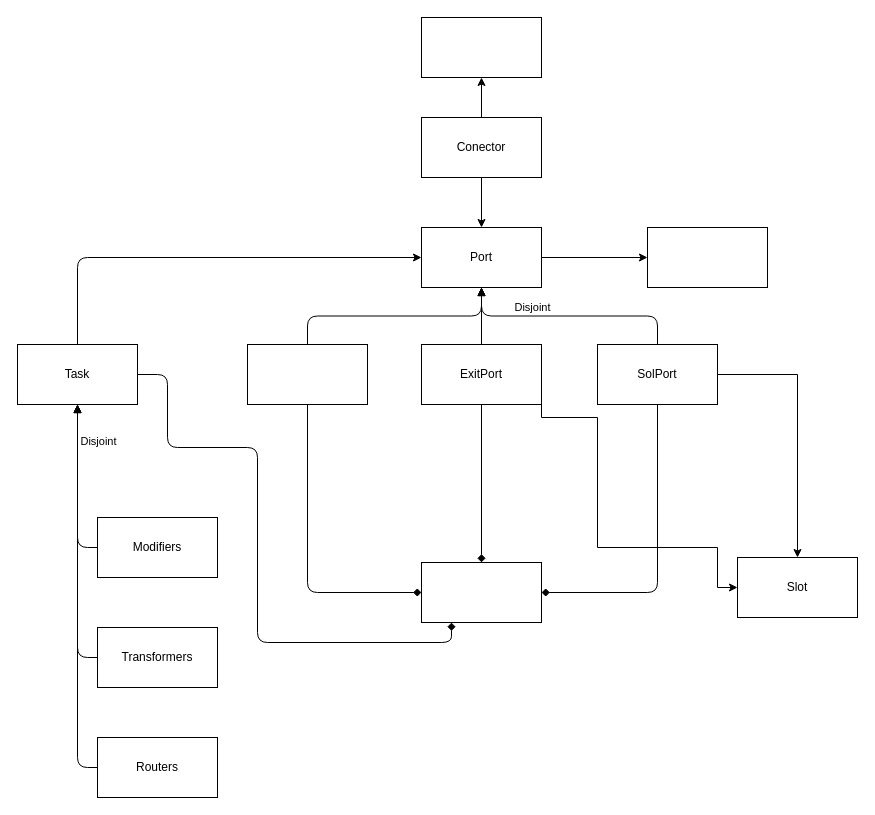
Image size: 875x815. Some labels were removed from this diagram. Here are the shapes that lost their labels. From the top down, the centre of each, then its label:
At point 481,47: "Application".
At point 707,257: "Mensaje".
At point 307,374: "EntryPort".
At point 481,592: "Process".
